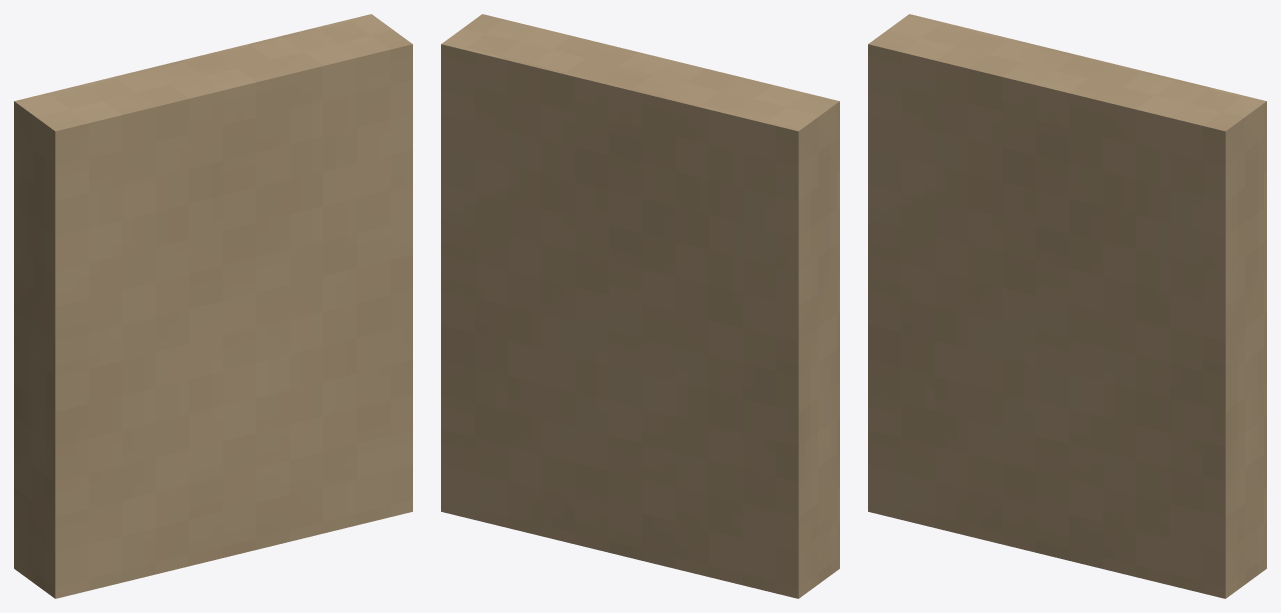
File: beige_stucco_wall.gltf
The picture shows the model from 3 angles, left to right: view 1: azimuth 30°, elevation 25°; view 2: azimuth 150°, elevation 25°; view 3: azimuth 330°, elevation 25°; orthographic projection.
Parts seen in each view (by area): view 1: BeigeStuccoWall; view 2: BeigeStuccoWall; view 3: BeigeStuccoWall.
Part boxes in pixels (x1=…): BeigeStuccoWall: x1=14, y1=14, x2=412, y2=598; BeigeStuccoWall: x1=441, y1=14, x2=839, y2=598; BeigeStuccoWall: x1=868, y1=14, x2=1266, y2=598.
Bounding box in the file's own units: 1 × 1.25 × 0.2.
1 material, 1 textured.
